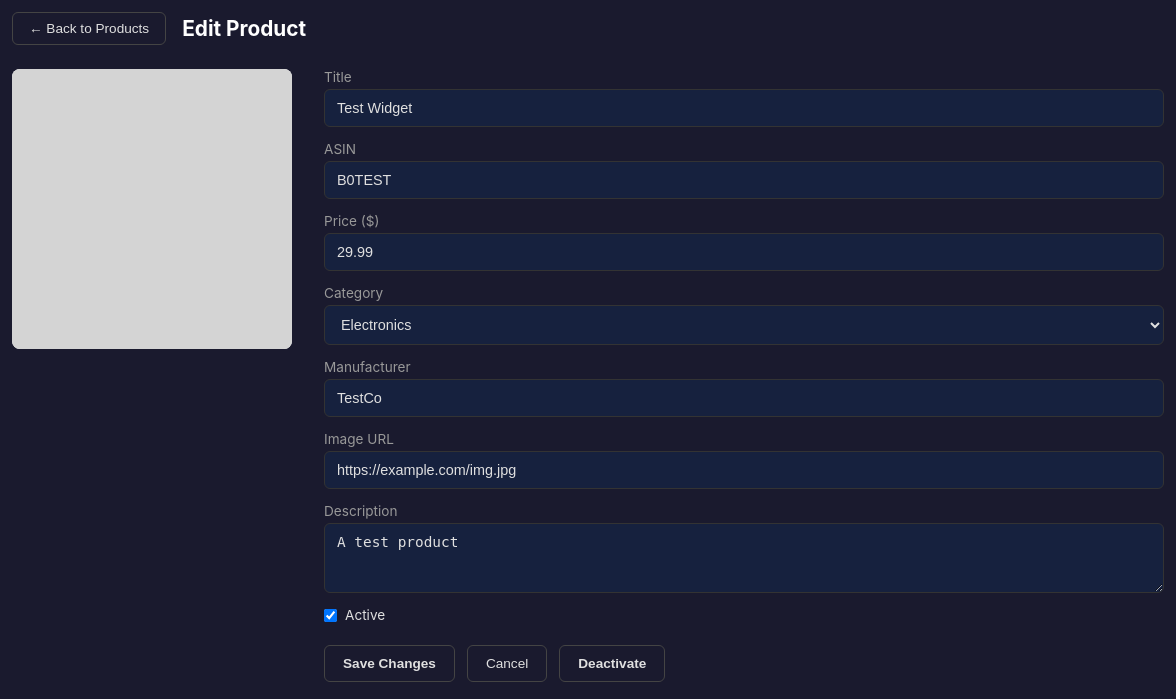
AdminProductDetailPage › Edit mode › shows error for invalid price
The width and height of the screenshot is (1176, 699).
Clear the number field with test id "input-price" at (744, 252), box [324,233,1164,271]
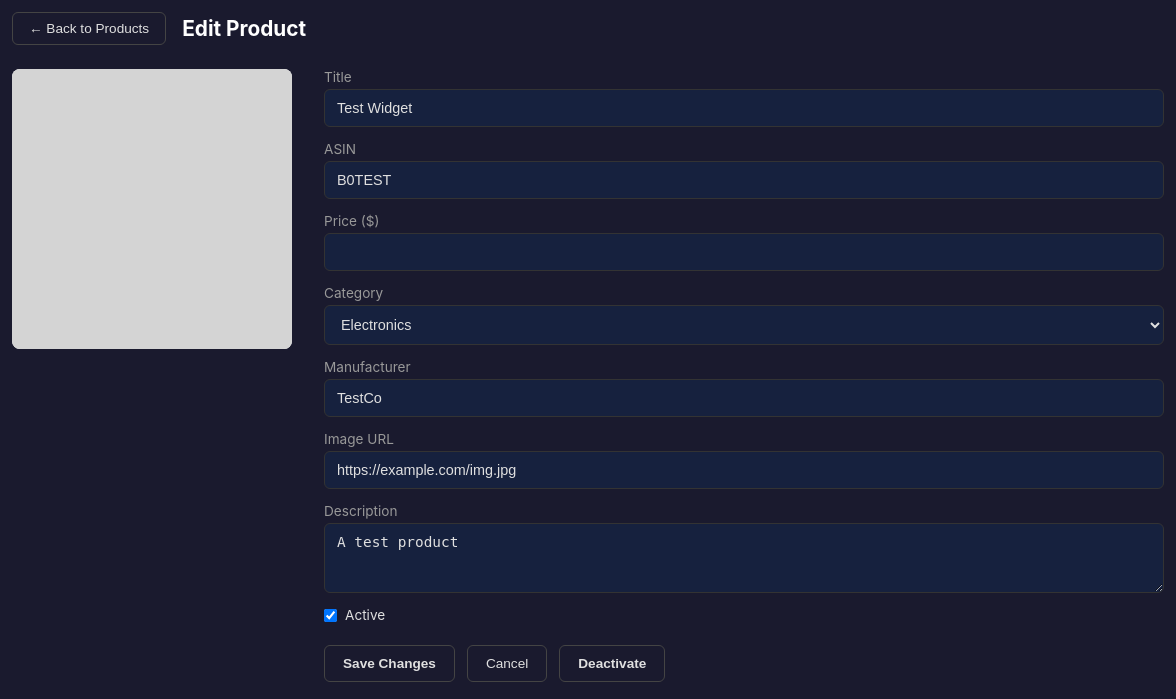
Click the button with test id "save-btn" at (389, 664), box [324,645,455,682]
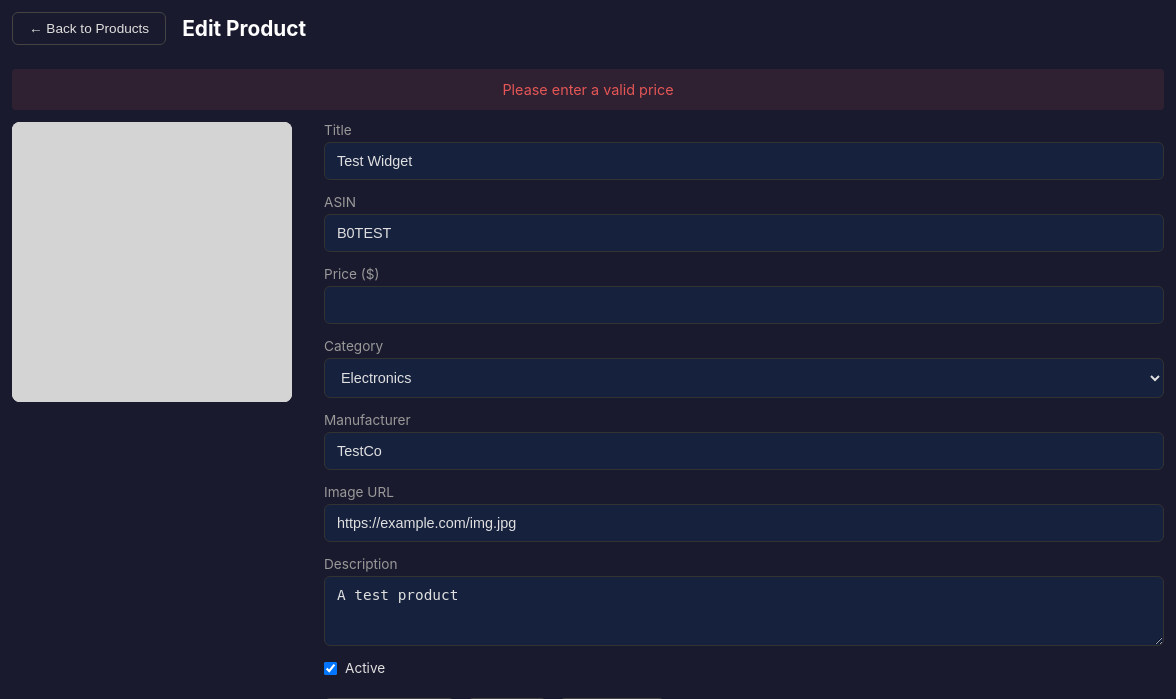
Now the text "Please enter a valid price" is shown, box [12,69,1164,110]
